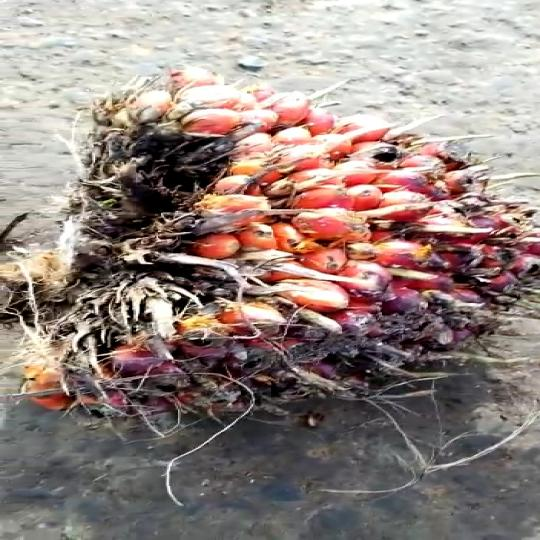masak: (53, 59, 540, 450)
